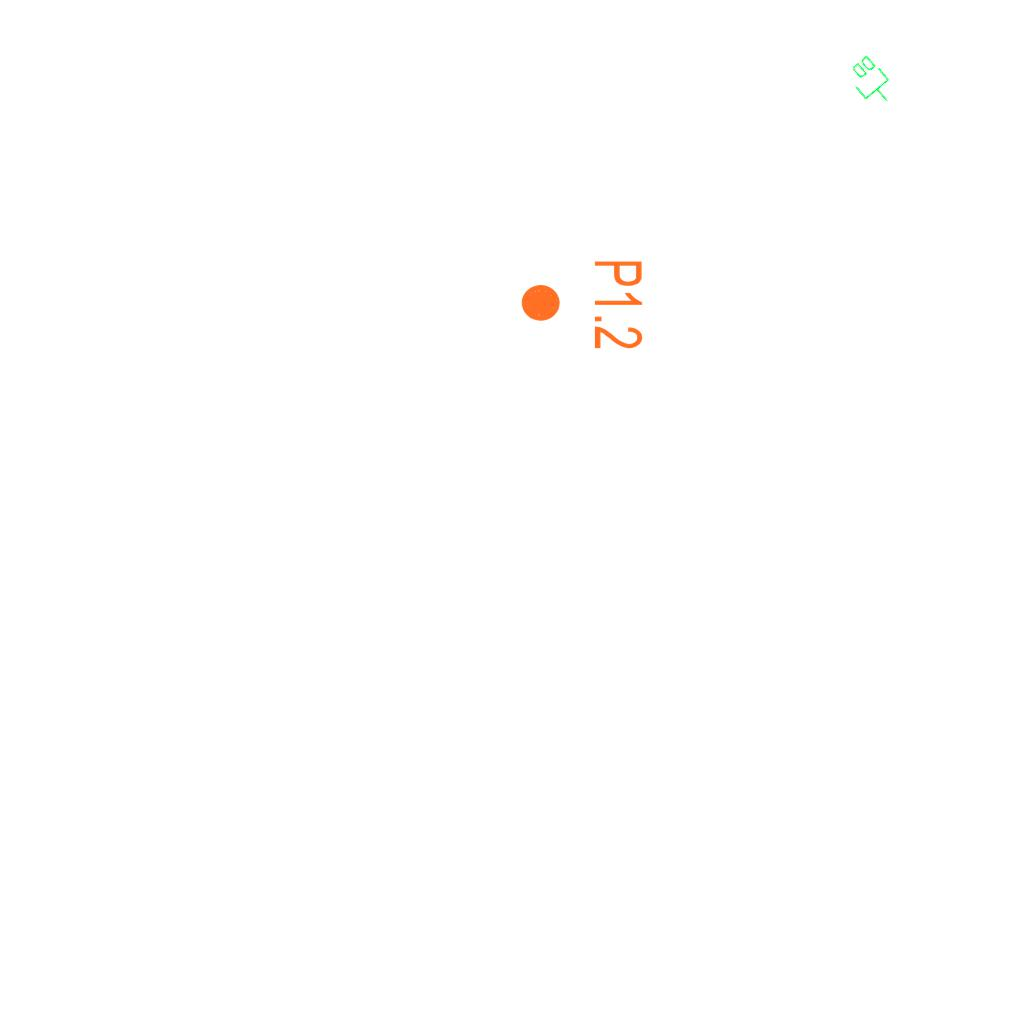Datenanschluss_zweifach: (842, 51, 901, 113)
Downlight_LED_Einbauleuchten_Flur: (518, 258, 646, 351)
